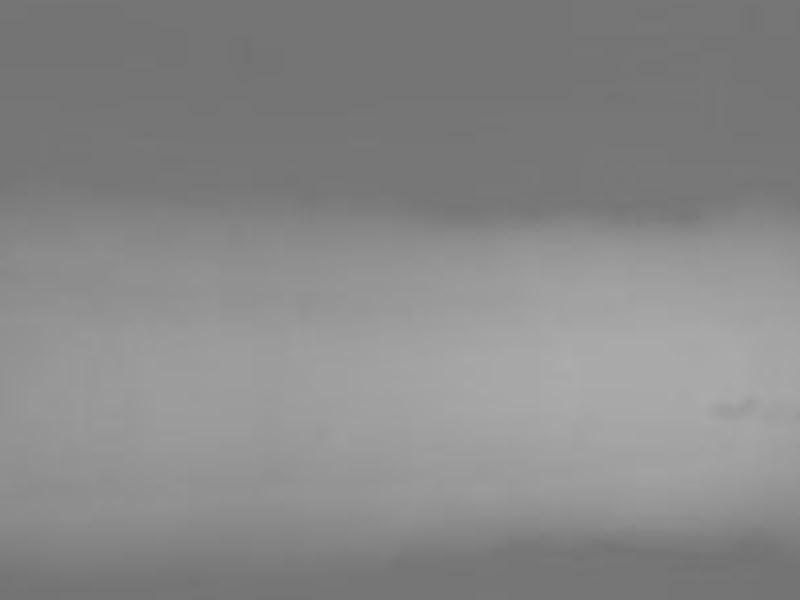defect: (709, 397, 733, 421), (739, 394, 758, 413)
